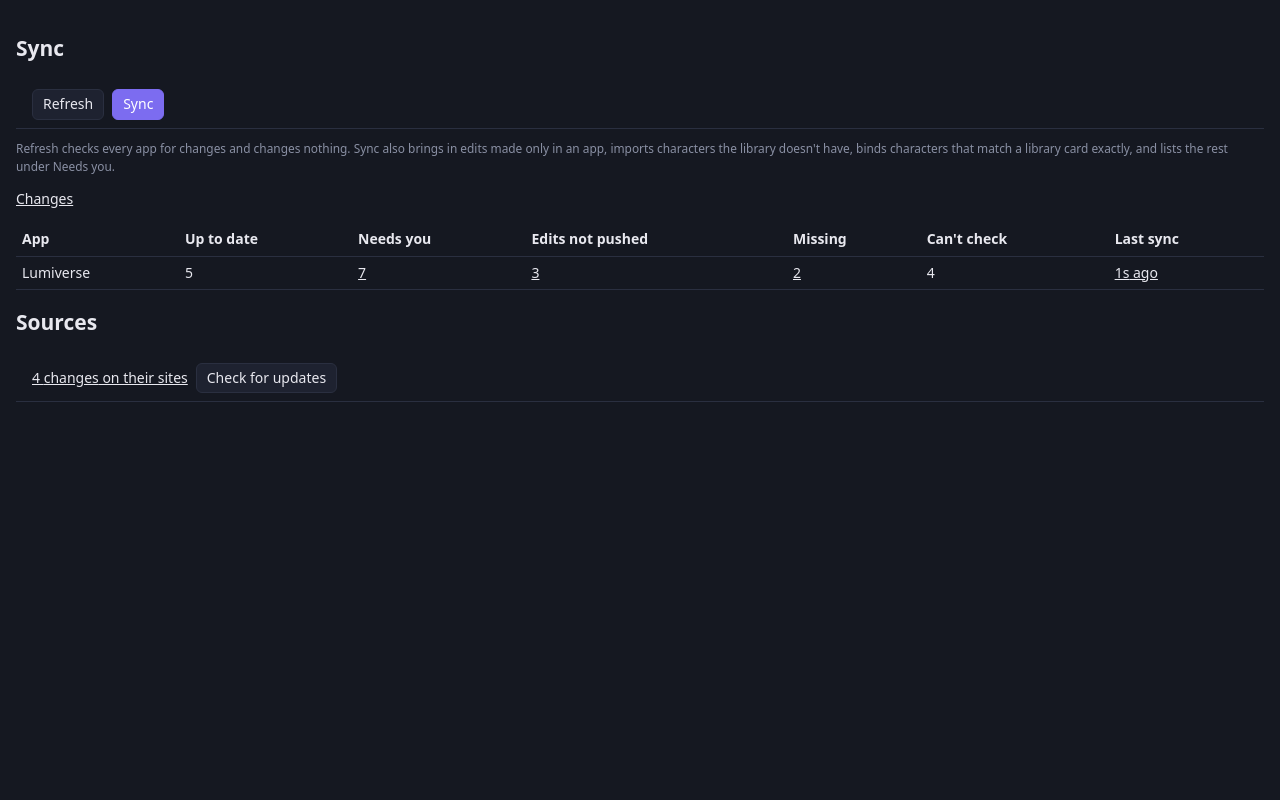
it: site sources get their own line: their changes and a check of every source in the last library used
The width and height of the screenshot is (1280, 800).
What coordinates should you click on to do the following:
click the button "Check for updates"
I would click on:
 (266, 378)
Its box is [196,363,337,393].
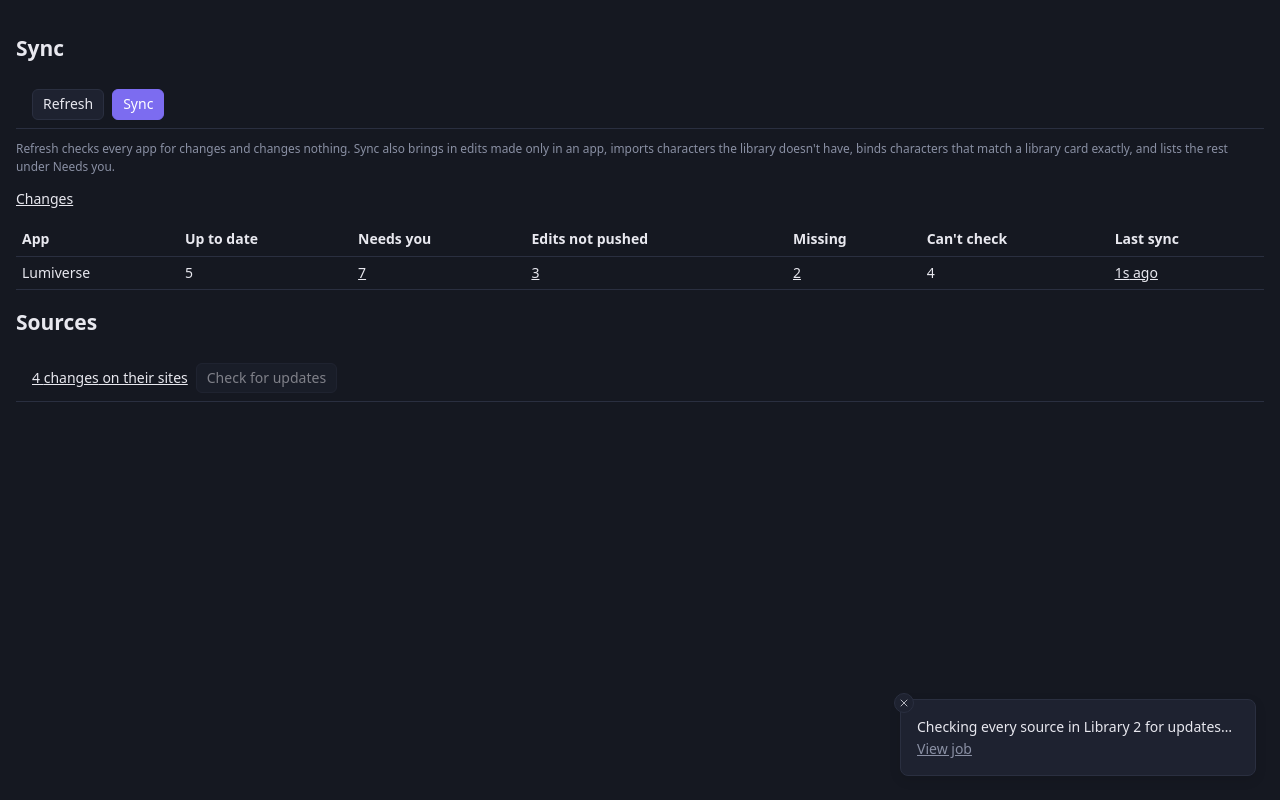
Expected: the text "Checking every source in Library 2 for updates…" is shown, [917,716,1232,737]
